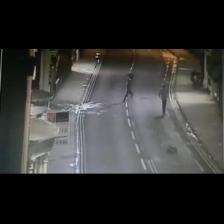person: (159, 84, 167, 116), (124, 74, 132, 102)
